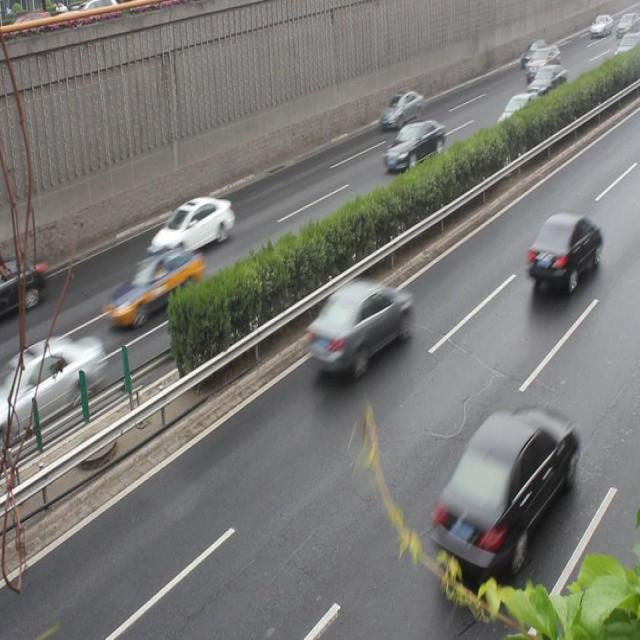car: (430, 405, 576, 570), (1, 338, 106, 434), (307, 279, 409, 372), (100, 250, 203, 326), (526, 212, 601, 292), (152, 195, 234, 260), (382, 118, 443, 176), (494, 92, 540, 136), (379, 88, 422, 134), (525, 64, 567, 104)
